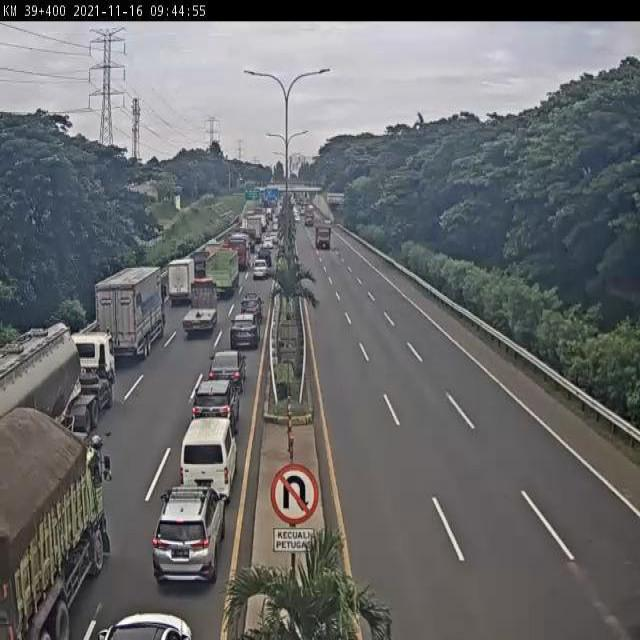car: (152, 488, 224, 584), (188, 382, 236, 446), (205, 355, 242, 397), (227, 313, 259, 352), (235, 298, 262, 330), (250, 256, 271, 284)
small bus: (180, 419, 235, 500)
truck-l-: (95, 264, 168, 361), (205, 248, 241, 300)
truck-m-: (182, 282, 217, 338), (166, 256, 197, 304)
truck-xl-: (0, 331, 118, 466)
